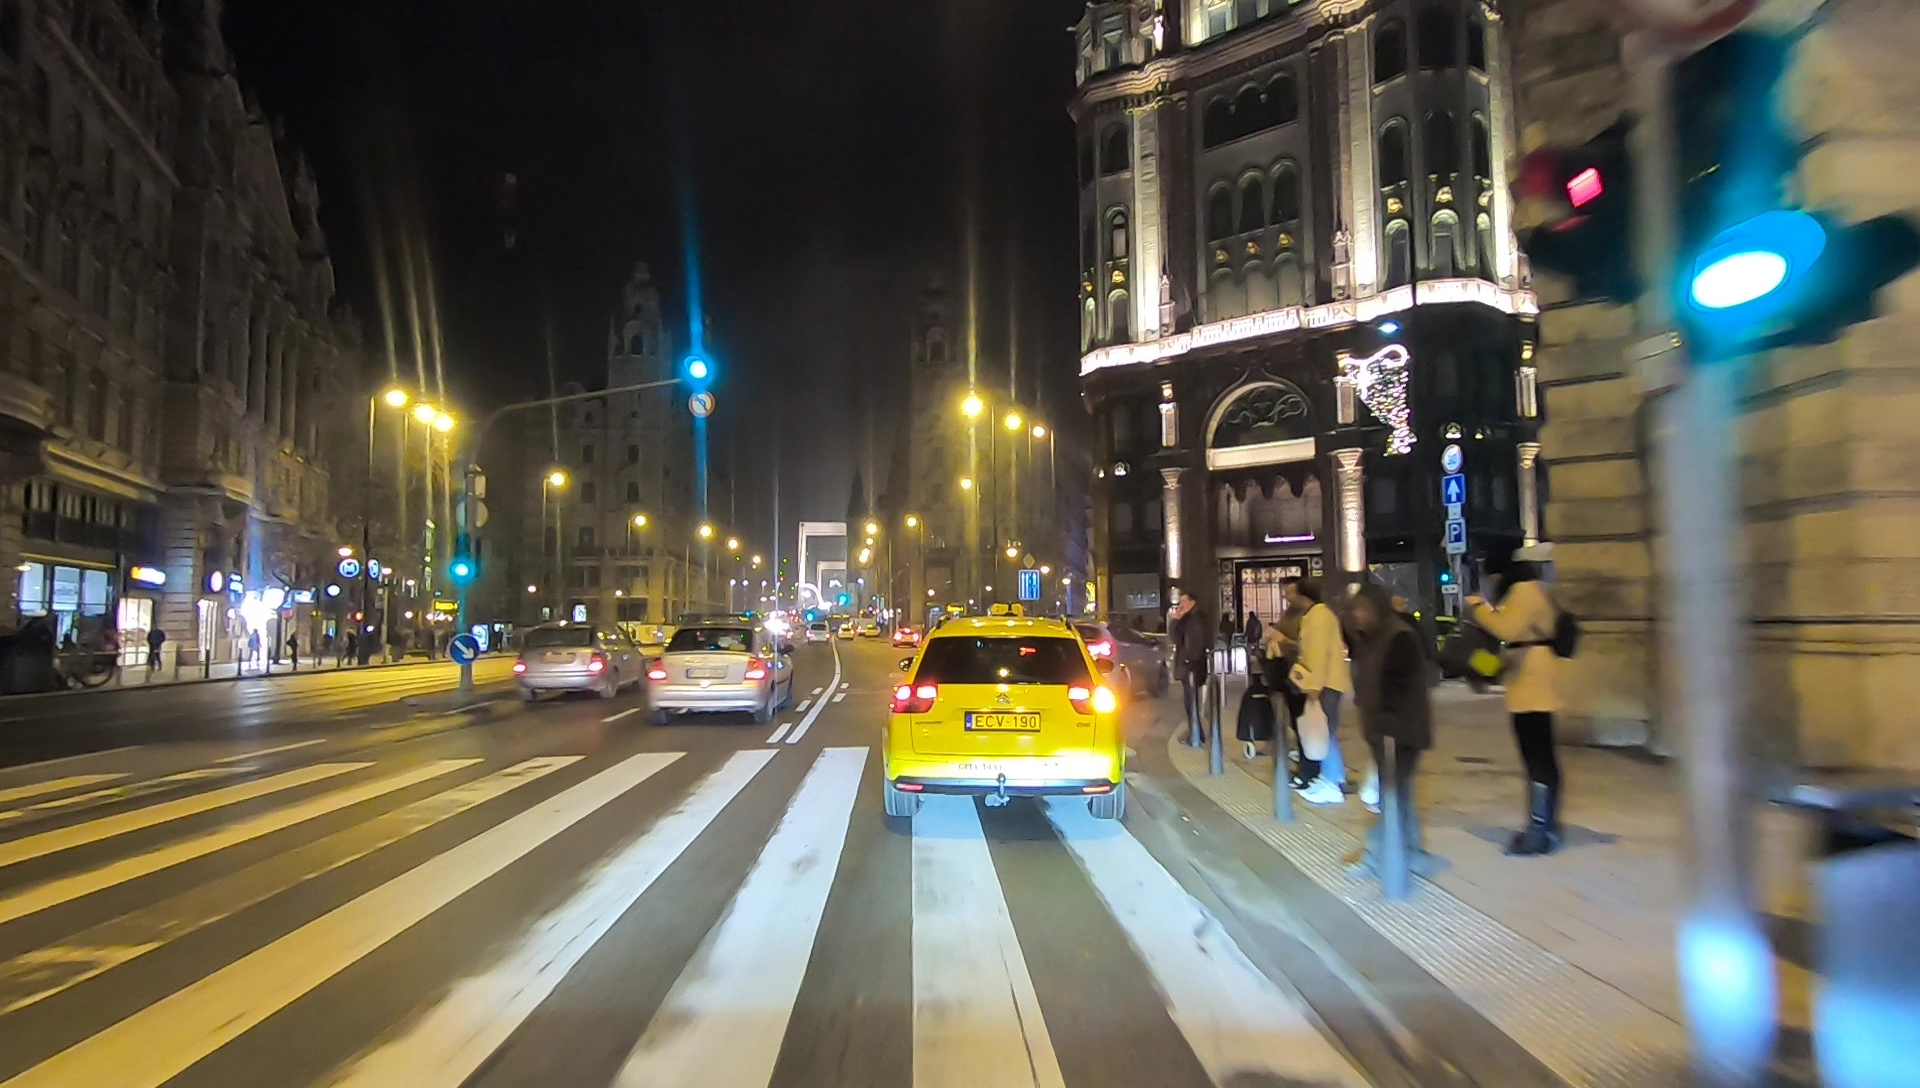person: (1469, 537, 1578, 863), (1345, 593, 1436, 881), (1290, 586, 1347, 806), (1169, 591, 1209, 746), (1243, 609, 1263, 670), (147, 623, 166, 675), (246, 627, 262, 663), (344, 624, 356, 665), (287, 629, 297, 666)
